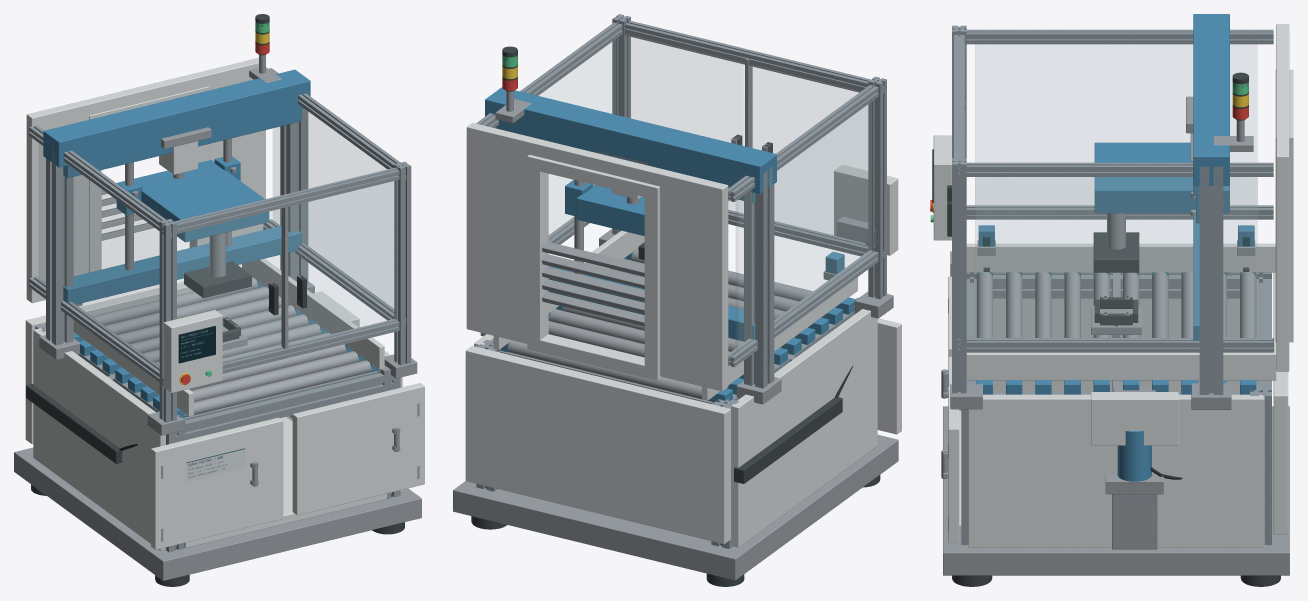
The model's file is b60-station-1.0.5.glb.
3 renders of one model, left to right at view 1: azimuth 30°, elevation 25°; view 2: azimuth 150°, elevation 25°; view 3: azimuth 270°, elevation 25°, orthographic. The views are drawn at different scales.
Parts seen in each view (by area): view 1: clear_safety_door_0.43, side_upper_guard_-0.86, side_lower_cover_-0.86, side_service_door_0.52, side_upper_guard_0.86, side_service_door_-0.52, clear_safety_door_-0.43, welded_base_bottom, gantry_crossbeam, guide_end_crossmember_1.5, ram_cantilever, upper_cross_rail_-0.79 (+42 smaller); view 2: rear_lower_service_cover, side_lower_cover_-0.86, side_upper_guard_-0.86, clear_safety_door_-0.43, welded_base_bottom, rear_upper_left_panel, rear_upper_right_panel, gantry_crossbeam, clear_safety_door_0.43, rear_upper_header, gantry_vertical_-0.86, side_upper_guard_0.86 (+34 smaller); view 3: side_upper_guard_0.86, side_lower_cover_0.86, side_upper_guard_-0.86, welded_base_bottom, product_edge_rail_0.7, product_edge_rail_-0.7, gantry_crossbeam, gantry_vertical_0.86, ram_cantilever, side_lower_cover_-0.86, transmission_guard, side_guard_rail_-0.86_2.5 (+38 smaller).
Part boxes in pixels (<box>): clear_safety_door_0.43: <box>289,181,395,345</box>; side_upper_guard_-0.86: <box>39,144,158,370</box>; side_lower_cover_-0.86: <box>33,328,165,550</box>; side_service_door_0.52: <box>292,383,424,515</box>; side_upper_guard_0.86: <box>273,107,393,313</box>; side_service_door_-0.52: <box>151,417,283,549</box>; clear_safety_door_-0.43: <box>177,209,281,361</box>; welded_base_bottom: <box>14,416,421,580</box>; gantry_crossbeam: <box>43,69,310,167</box>; guide_end_crossmember_1.5: <box>63,226,301,304</box>; ram_cantilever: <box>134,161,269,242</box>; upper_cross_rail_-0.79: <box>166,371,393,444</box>; rear_lower_service_cover: <box>465,346,730,544</box>; side_lower_cover_-0.86: <box>731,309,877,547</box>; side_upper_guard_-0.86: <box>736,102,871,351</box>; clear_safety_door_-0.43: <box>751,65,867,247</box>; welded_base_bottom: <box>453,434,898,580</box>; rear_upper_left_panel: <box>660,178,728,391</box>; rear_upper_right_panel: <box>466,131,528,343</box>; gantry_crossbeam: <box>485,87,776,193</box>; clear_safety_door_0.43: <box>625,34,744,217</box>; rear_upper_header: <box>466,123,728,213</box>; gantry_vertical_-0.86: <box>744,167,774,388</box>; side_upper_guard_0.86: <box>495,40,615,240</box>; side_upper_guard_0.86: <box>975,177,1257,340</box>; side_lower_cover_0.86: <box>968,394,1264,547</box>; side_upper_guard_-0.86: <box>975,45,1257,207</box>; welded_base_bottom: <box>943,406,1289,575</box>; product_edge_rail_0.7: <box>966,351,1276,380</box>; product_edge_rail_-0.7: <box>966,243,1275,272</box>; gantry_crossbeam: <box>1193,14,1229,185</box>; gantry_vertical_0.86: <box>1199,166,1223,394</box>; ram_cantilever: <box>1094,142,1228,213</box>; side_lower_cover_-0.86: <box>993,298,1239,391</box>; transmission_guard: <box>1091,392,1178,445</box>; side_guard_rail_-0.86_2.5: <box>959,29,1273,44</box>.
Size of the model in its own units: 1.98 by 3 by 1.99.
Materials: 16 (5 with a texture image).
